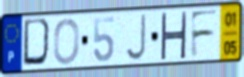5: (93, 15, 116, 64)
D: (22, 17, 55, 69)
F: (189, 8, 220, 60)
H: (159, 11, 189, 61)
J: (124, 13, 148, 62)
O: (52, 17, 81, 66)
